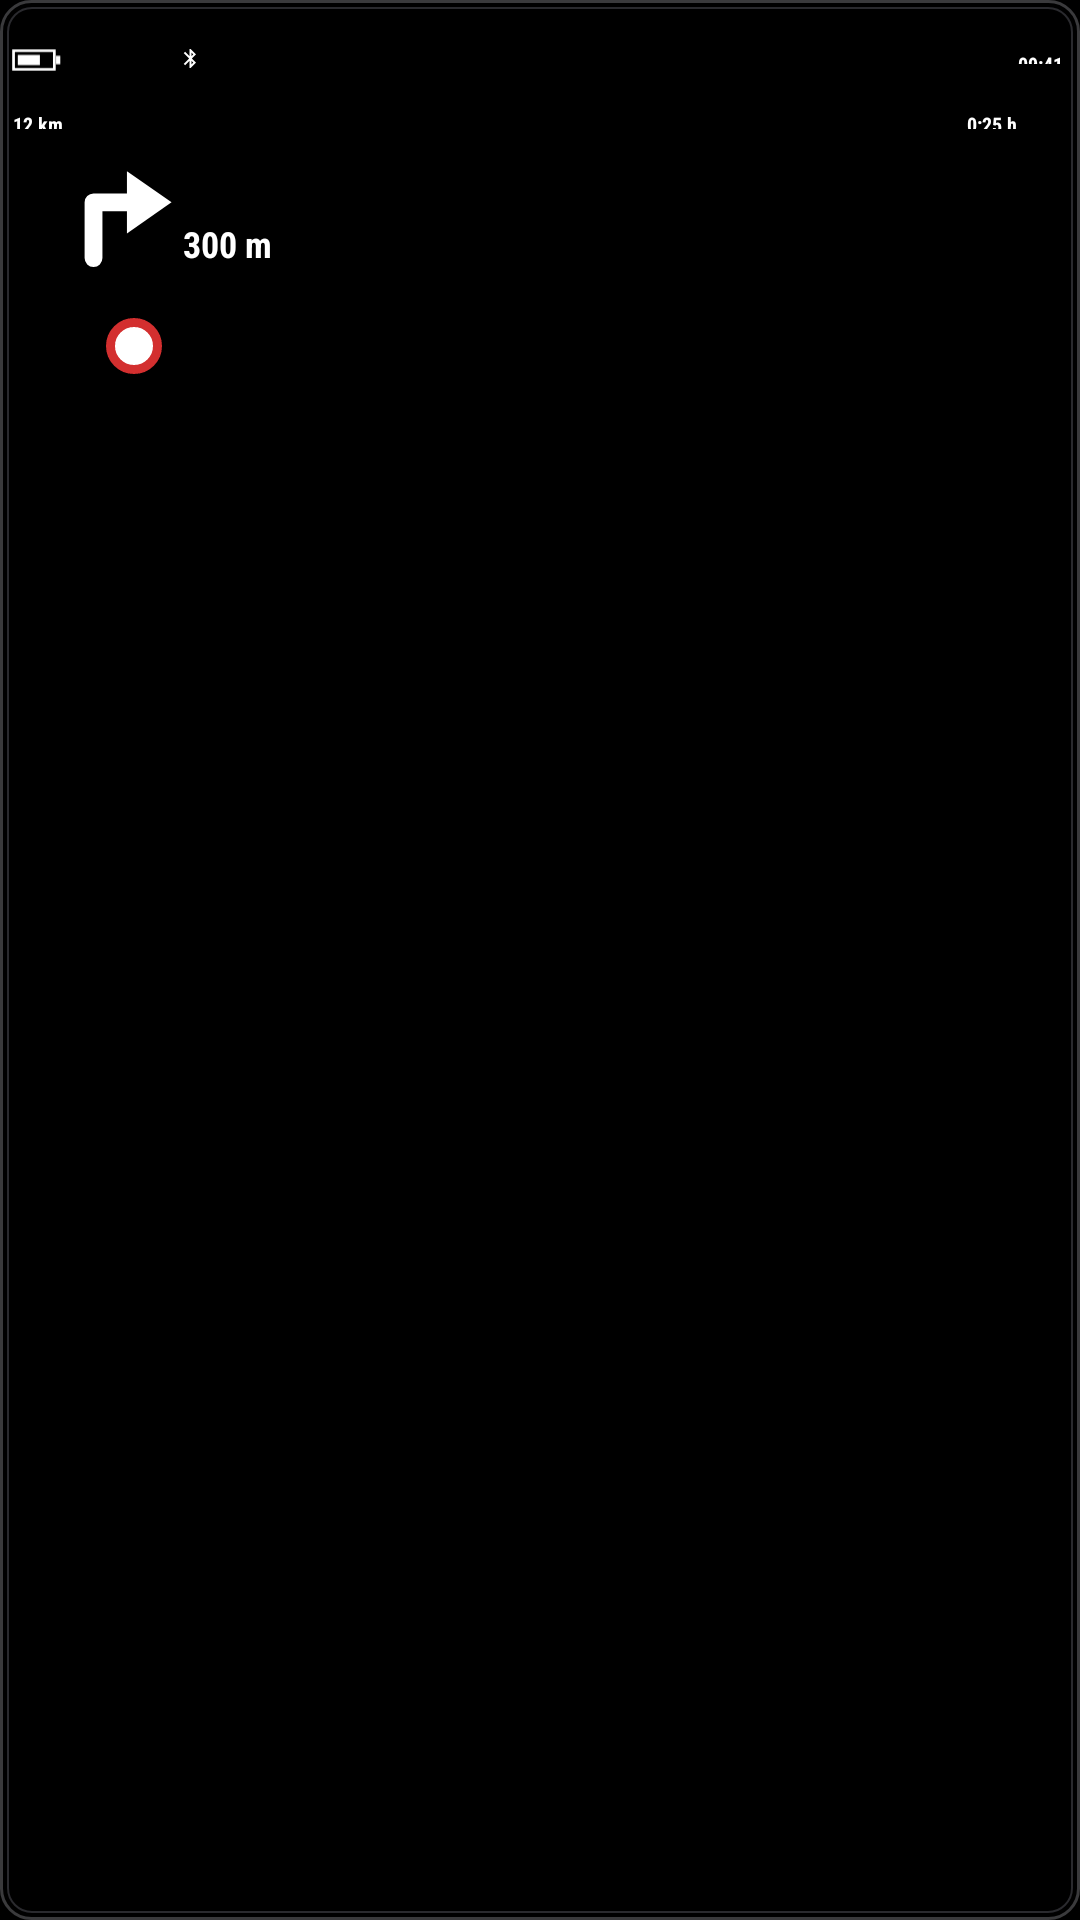

Where to tap for icons on this 1080w x 1920h app screen, as [x,y]:
prev arrow right: [128,219]
prev battery: [36,60]
